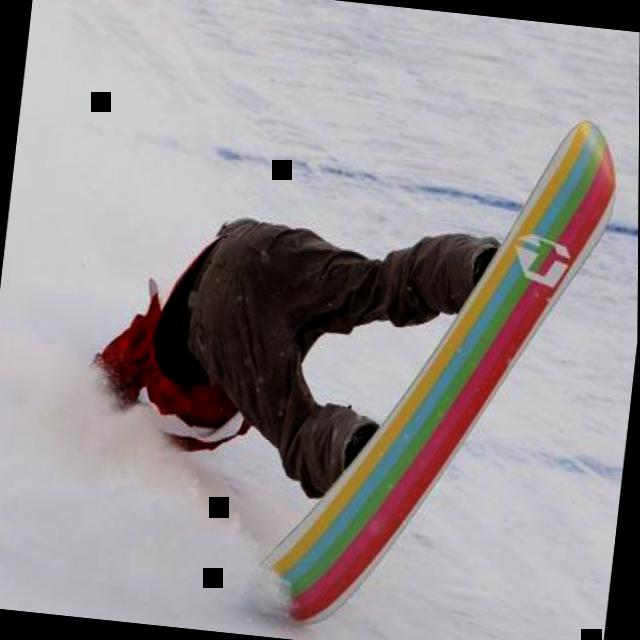Fall-Detected: (51, 82, 603, 544)
